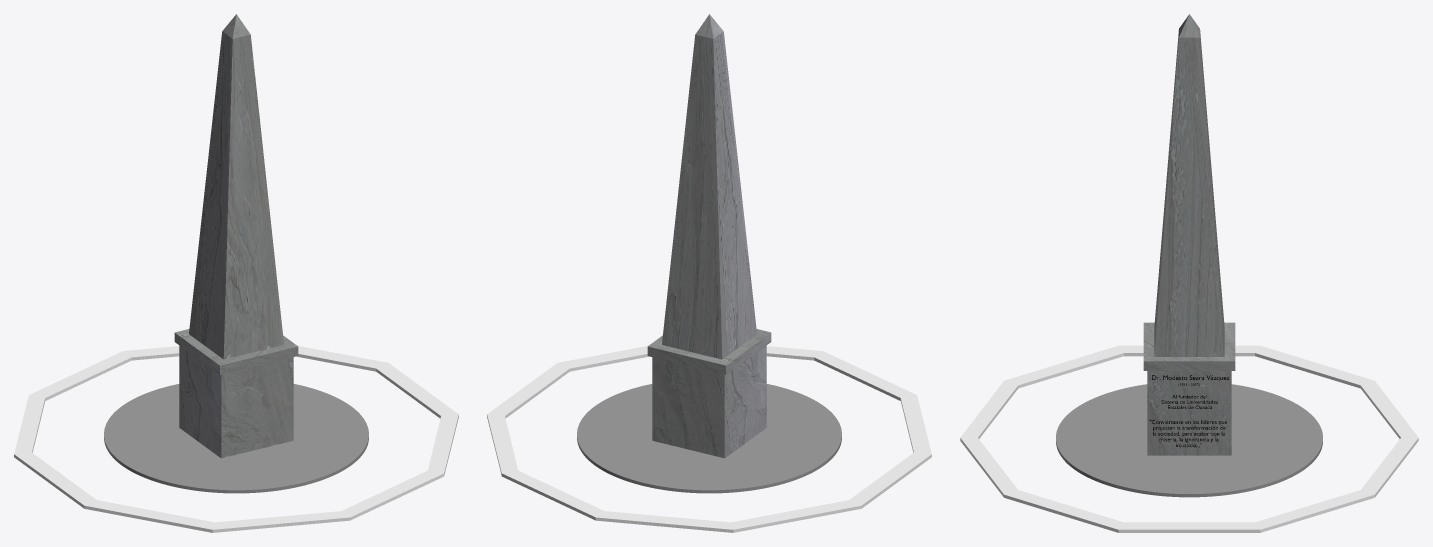
The model's file is obelisco.fbx.
The picture shows the model from 3 angles, left to right: view 1: azimuth 30°, elevation 25°; view 2: azimuth 150°, elevation 25°; view 3: azimuth 270°, elevation 25°; orthographic projection.
Parts seen in each view (by area): view 1: Obelisco.005, Obelisco.002, Obelisco.001, Obelisco.003, Obelisco.004; view 2: Obelisco.005, Obelisco.002, Obelisco.001, Obelisco.003, Obelisco.004; view 3: Obelisco.002, Obelisco.005, Obelisco.001, Obelisco.003, Obelisco.004, Texto.003.
Part boxes in pixels (x1,y1,x2,y2): Obelisco.005: (189, 31, 283, 359); Obelisco.002: (104, 384, 368, 493); Obelisco.001: (14, 346, 458, 532); Obelisco.003: (179, 345, 293, 458); Obelisco.004: (174, 329, 298, 374); Obelisco.005: (662, 31, 756, 359); Obelisco.002: (577, 384, 841, 493); Obelisco.001: (487, 346, 931, 532); Obelisco.003: (652, 345, 766, 458); Obelisco.004: (647, 329, 771, 374); Obelisco.002: (1056, 384, 1322, 497); Obelisco.005: (1154, 30, 1224, 356); Obelisco.001: (960, 345, 1418, 532); Obelisco.003: (1147, 371, 1231, 455); Obelisco.004: (1143, 322, 1235, 370); Texto.003: (1149, 419, 1226, 448).
Size of the model in its own units: 620 by 670 by 652.
